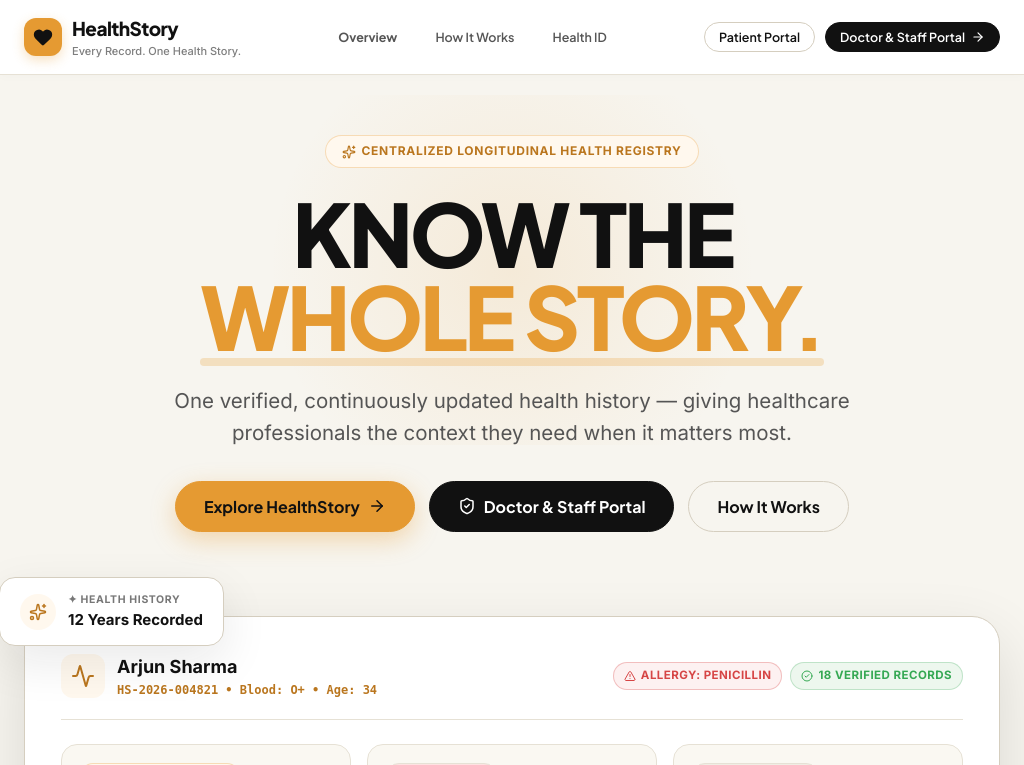
it: HealthStory Comprehensive Application & Button Flow Tests › 2. New Doctor Sign-Up registers physician and logs into Staff Portal
This screenshot has width=1024, height=765.
# Click Doctor & Staff Portal button in header
Click the 1st button "Doctor & Staff Portal" at (912, 37), box left=825, top=22, right=1000, bottom=52
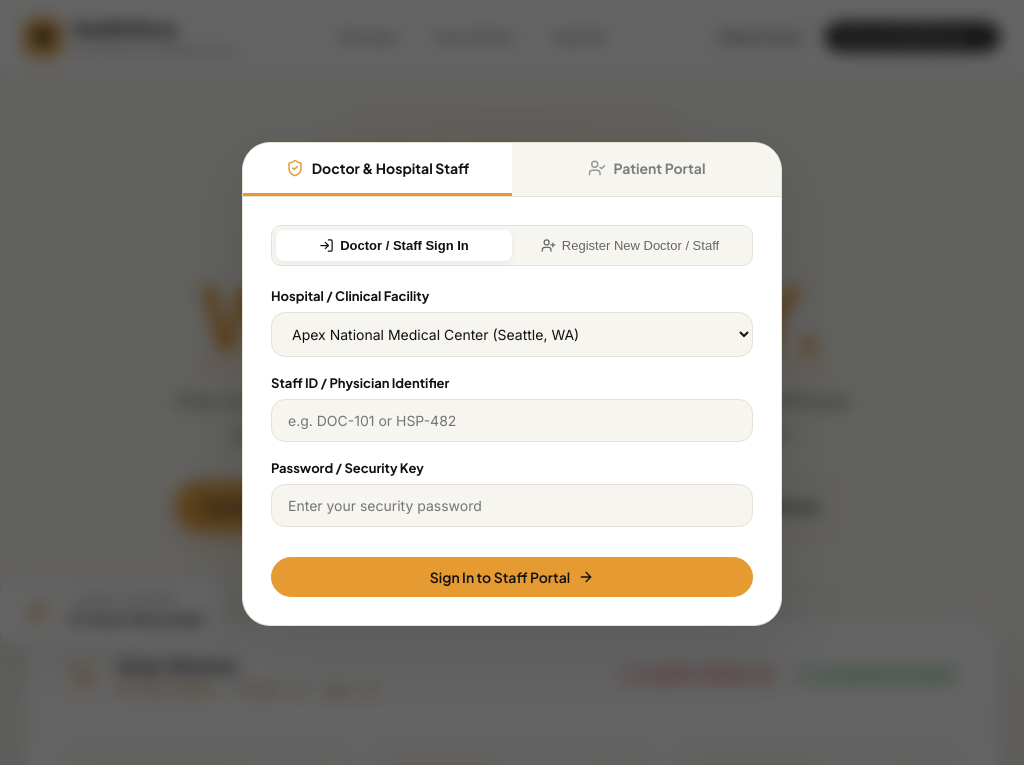
# Switch to Register New Doctor
Click the button "Register New Doctor / Staff" at (630, 245), box left=512, top=230, right=748, bottom=261
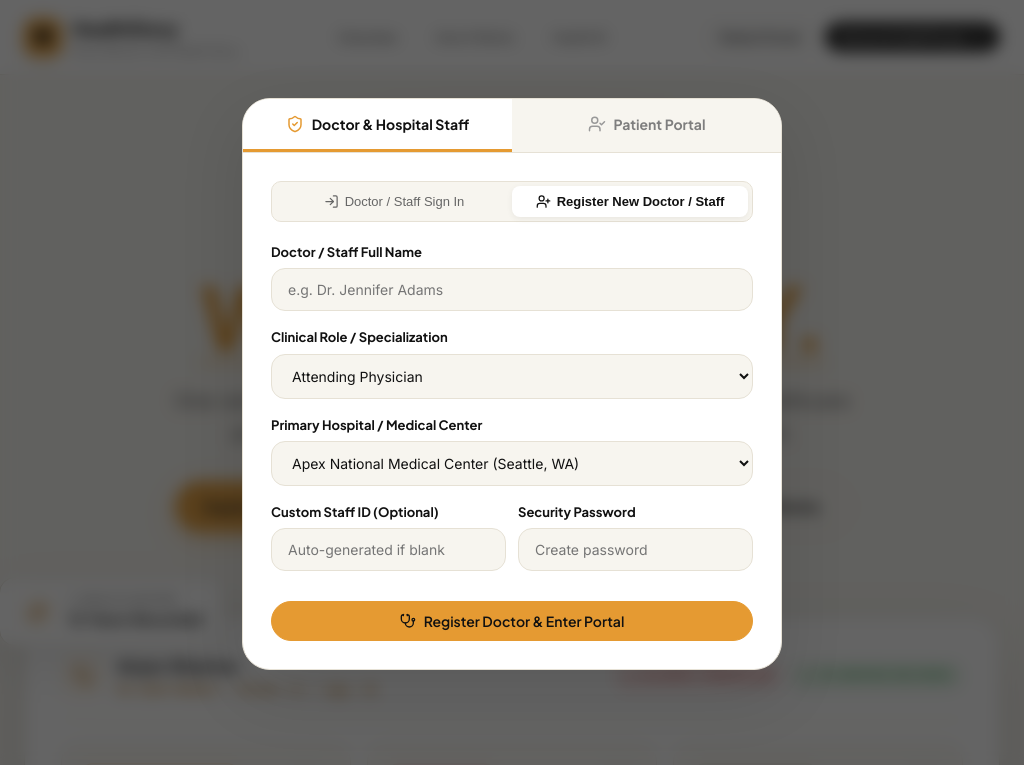
Type "Dr. Jennifer Adams" into the field with placeholder "e.g. Dr. Jennifer Adams" at (512, 290), box left=271, top=268, right=753, bottom=311
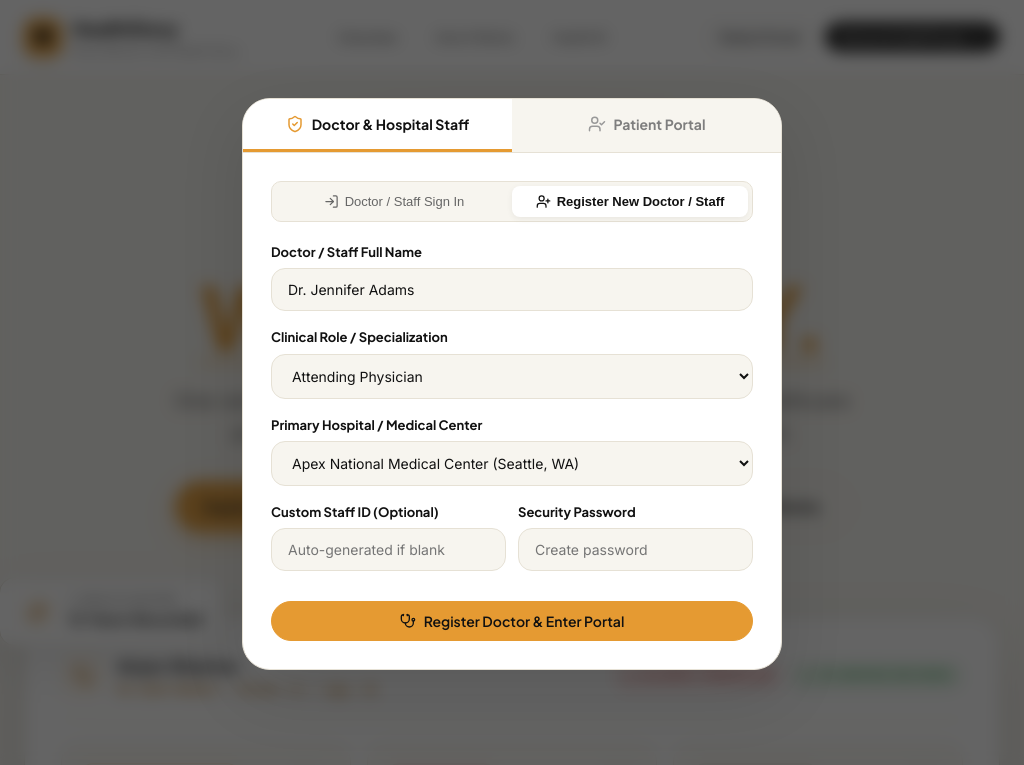
Type "securepass123" into the password field with placeholder "Create password" at (636, 549), box left=518, top=528, right=753, bottom=571
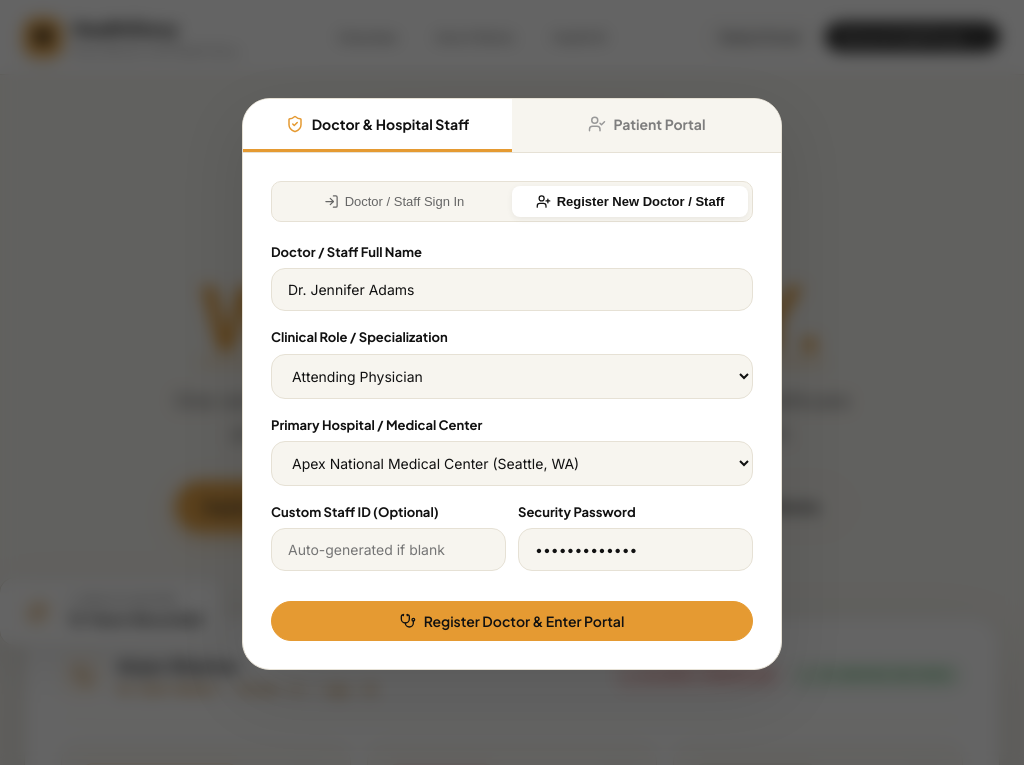
# Submit Registration
Click the button "Register Doctor & Enter Portal" at (512, 621), box left=271, top=601, right=753, bottom=641
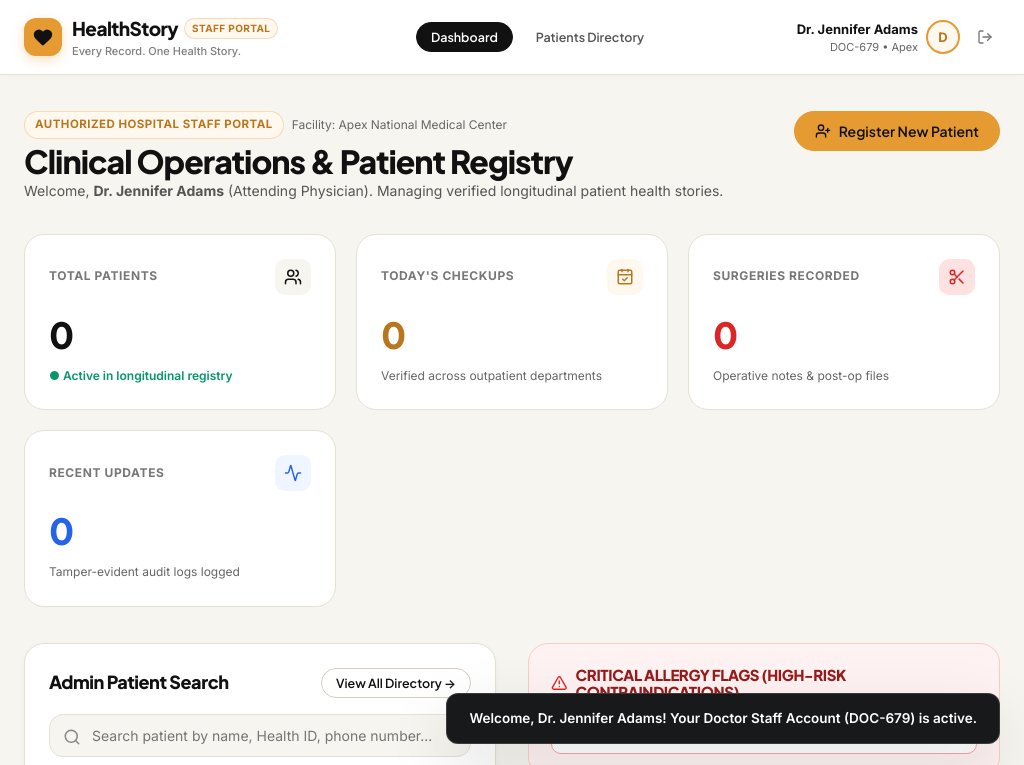
Expected: the heading "Clinical Operations & Patient Registry" is shown, left=24, top=141, right=573, bottom=181
Expected: the text "AUTHORIZED HOSPITAL STAFF PORTAL" is shown, left=24, top=112, right=284, bottom=139
Expected: the text "Dr. Jennifer Adams" in the row of "HealthStory" is shown, left=797, top=21, right=918, bottom=37
